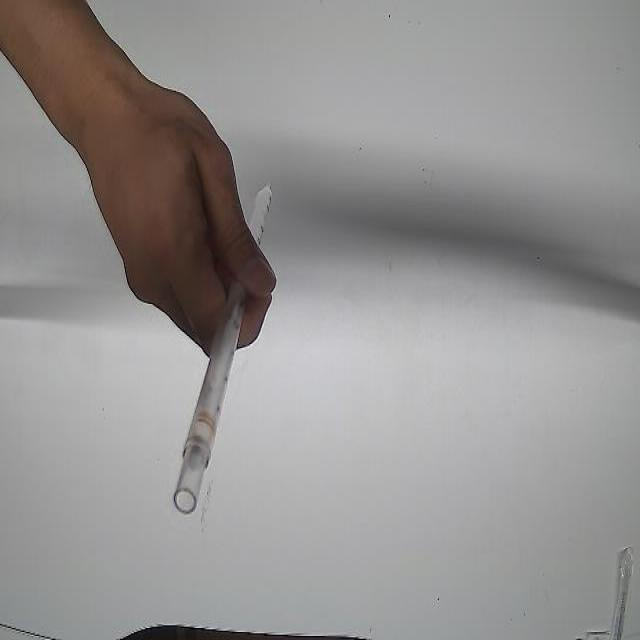Serelogical Pipet 10 mL: (172, 163, 276, 523)
